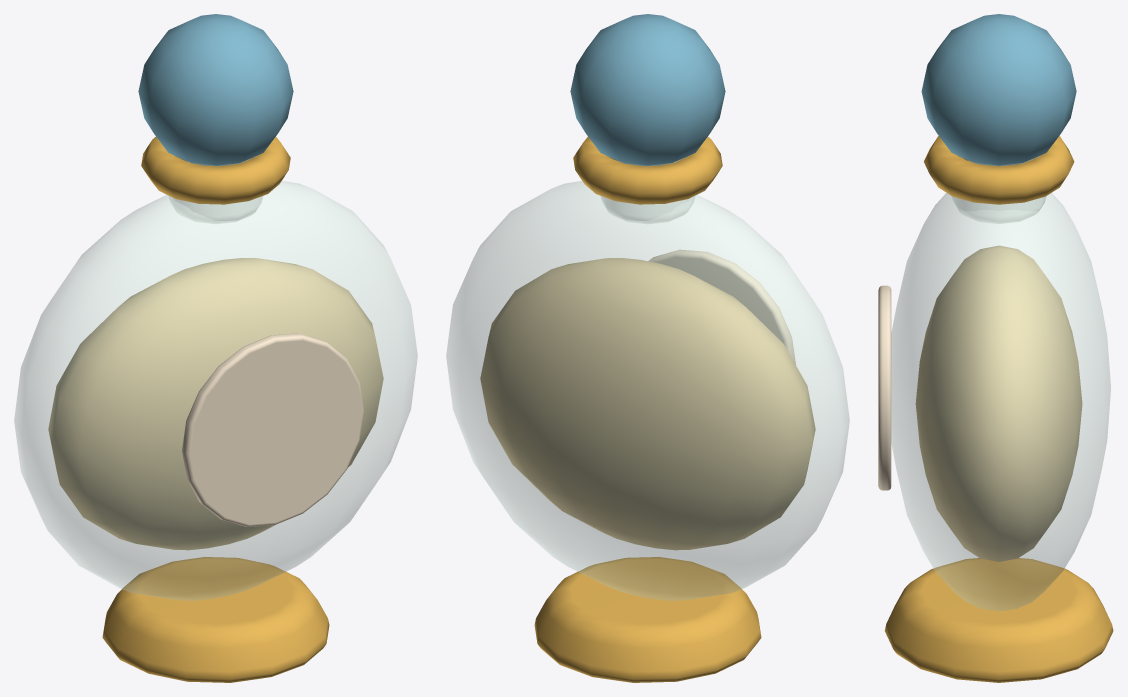
The model's file is perfume-bottle-moon.glb.
3 views of the same model, side by side, from view 1: azimuth 30°, elevation 25°; view 2: azimuth 150°, elevation 25°; view 3: azimuth 270°, elevation 25° (orthographic).
Visible parts, largest first — view 1: perfume-bottle-moon; view 2: perfume-bottle-moon; view 3: perfume-bottle-moon.
Part boxes in pixels (<box>): perfume-bottle-moon: <box>14,14,417,682</box>; perfume-bottle-moon: <box>446,14,849,682</box>; perfume-bottle-moon: <box>878,14,1113,682</box>.
Bounding box in the file's own units: 0.104 × 0.158 × 0.0546.
